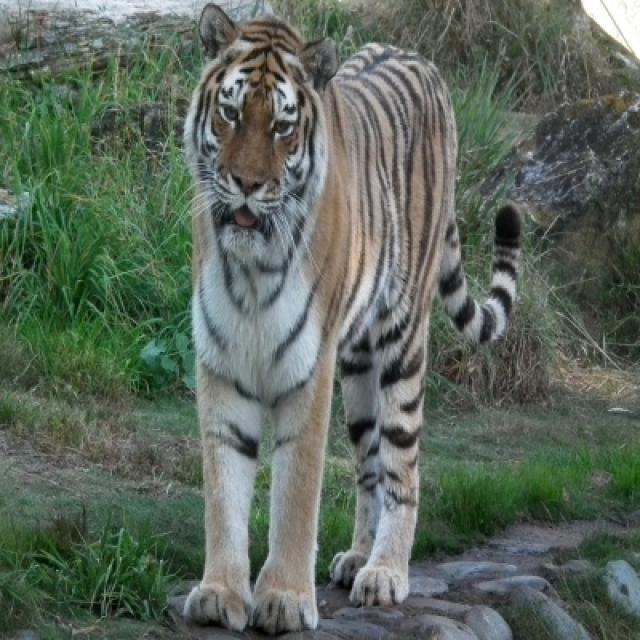Tiger: (183, 4, 479, 623)
